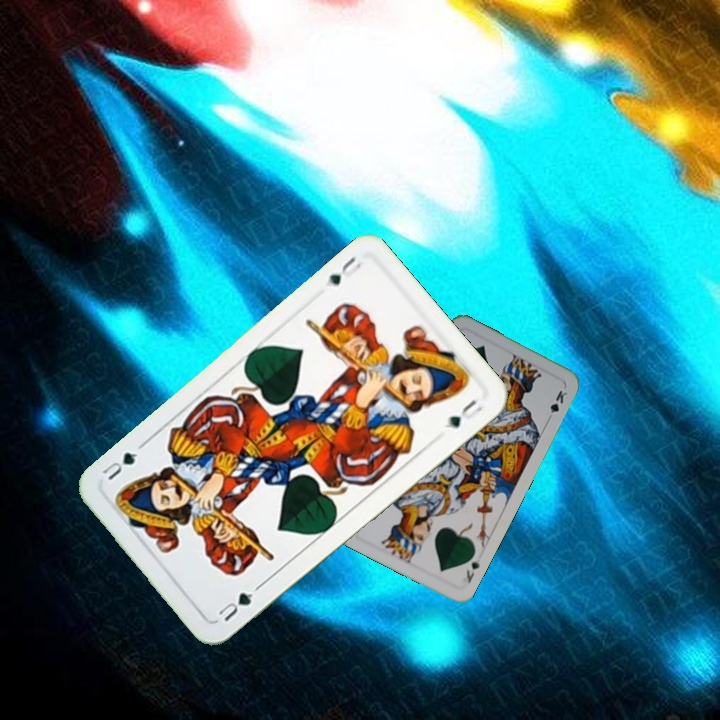GK: (462, 554, 483, 585)
GU: (214, 581, 263, 625), (321, 252, 365, 290)
